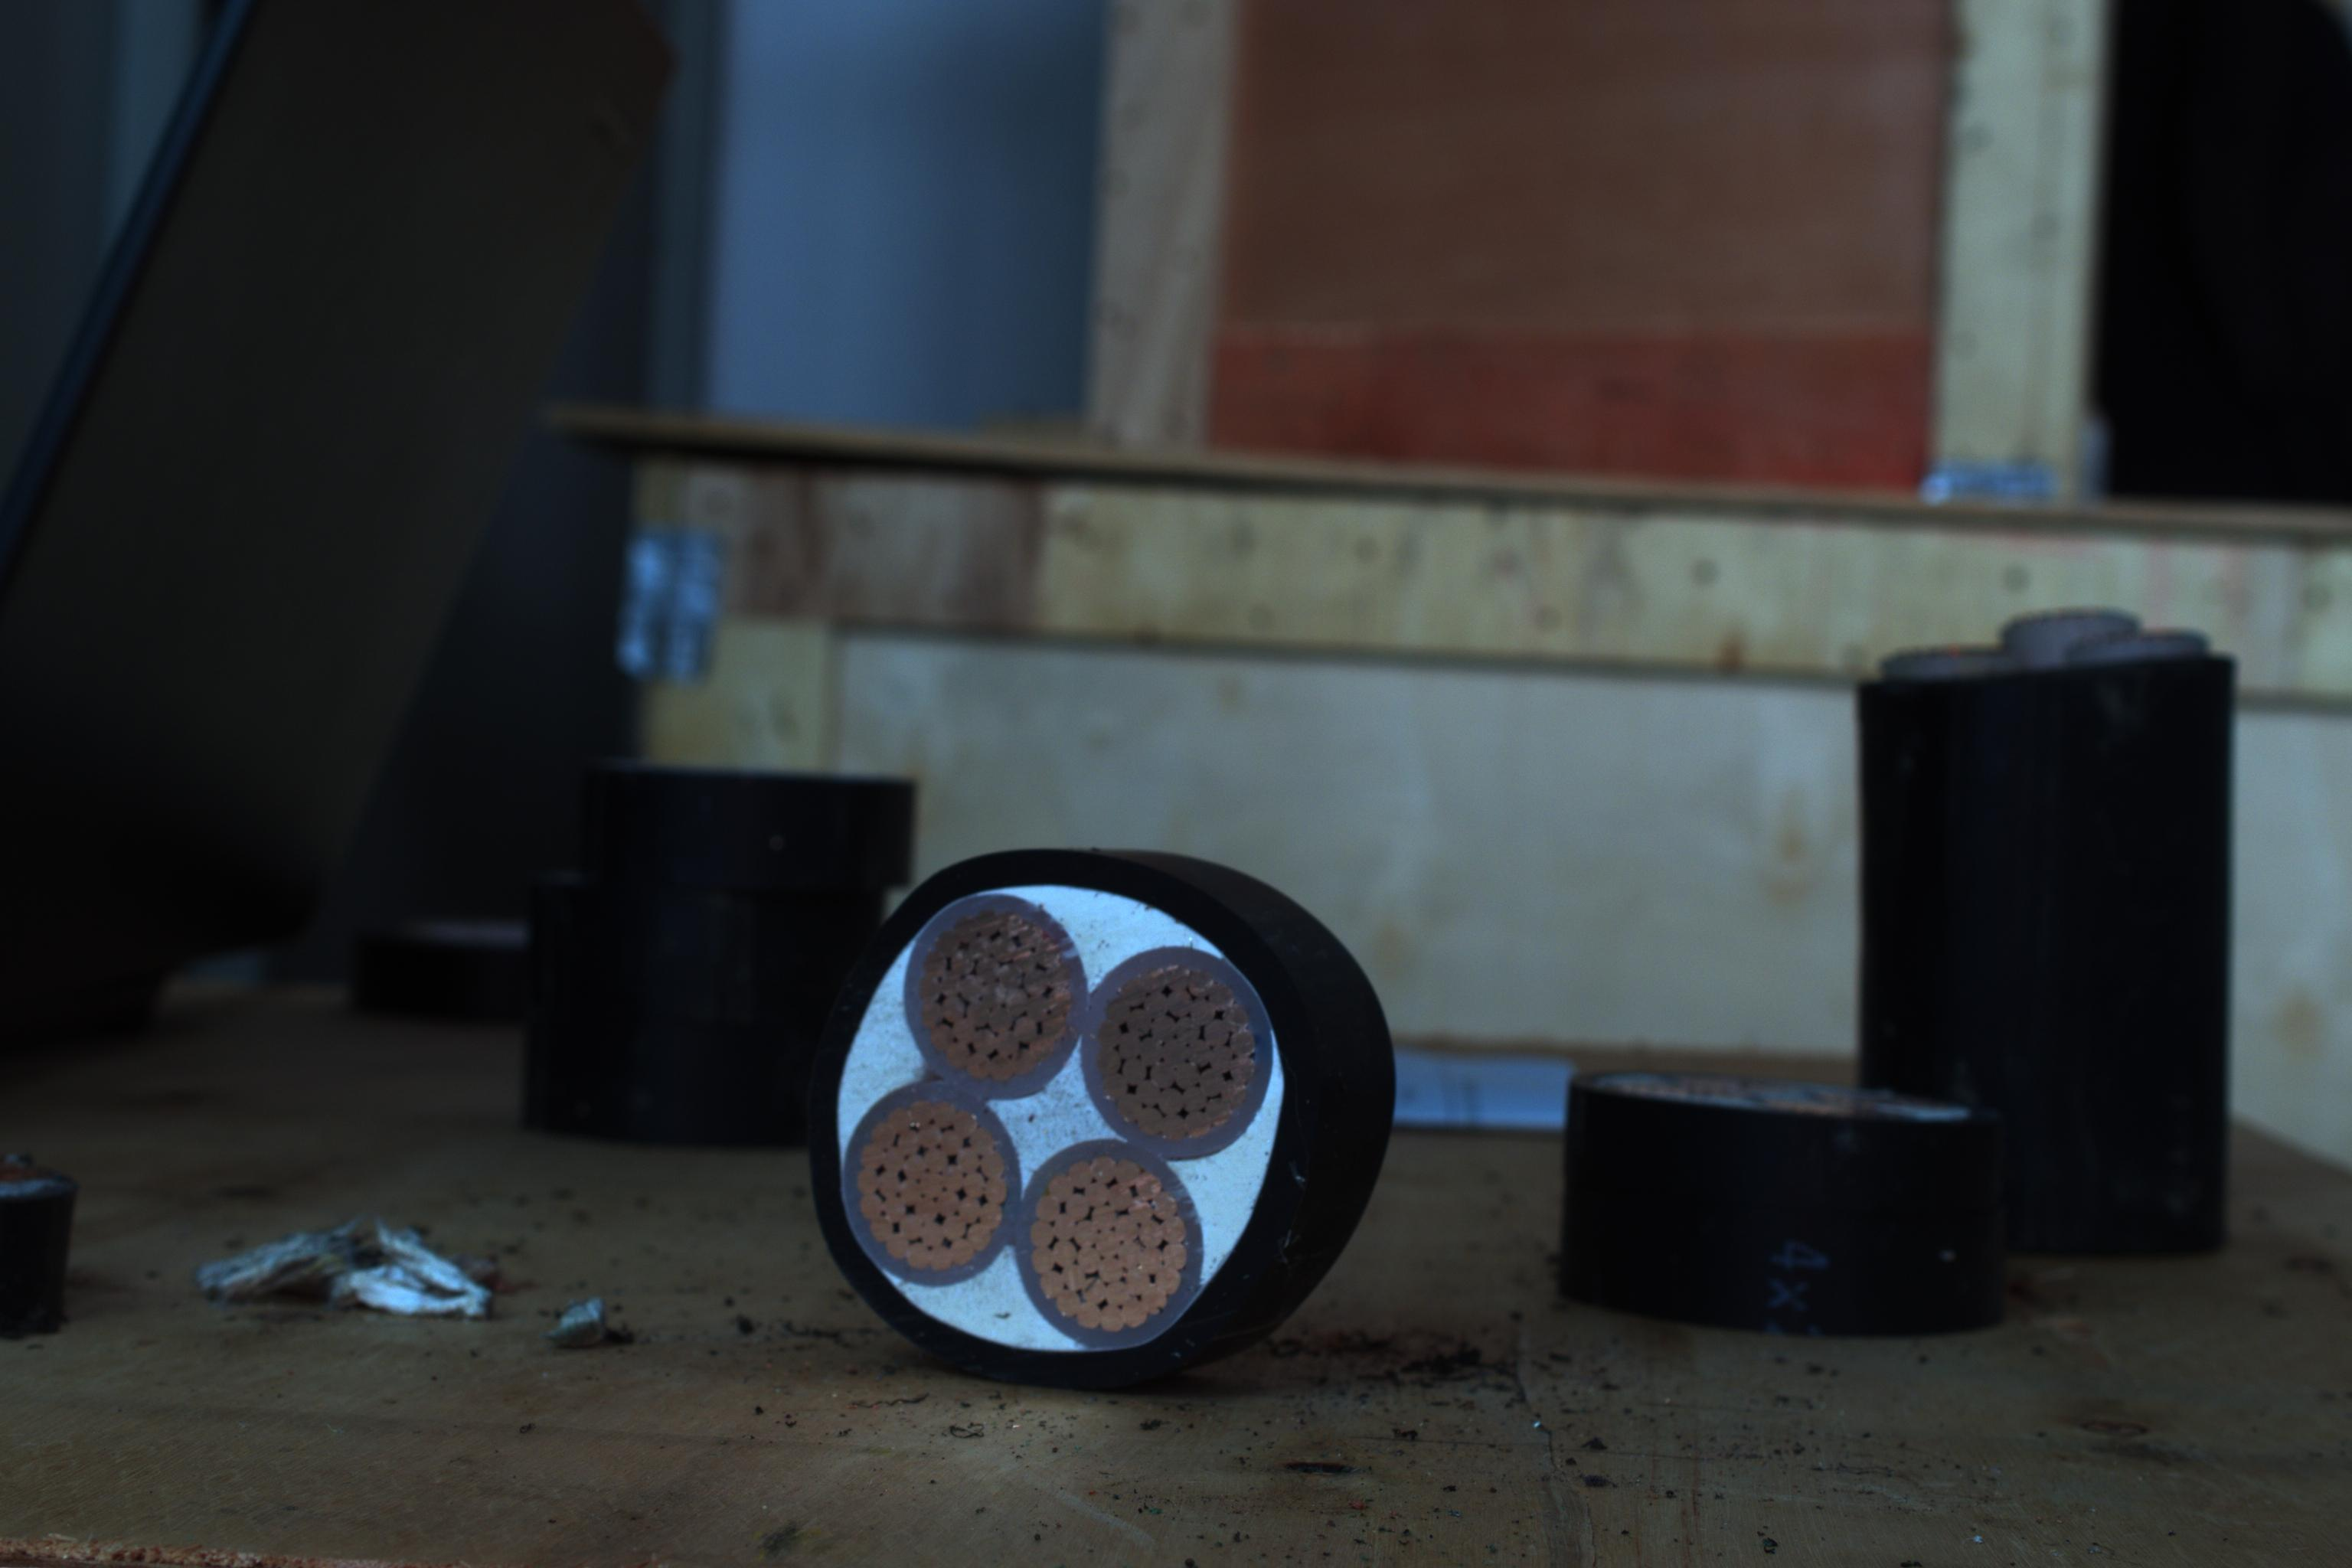YJV_0.6_1kV_4x240: (822, 843, 1318, 1384)
